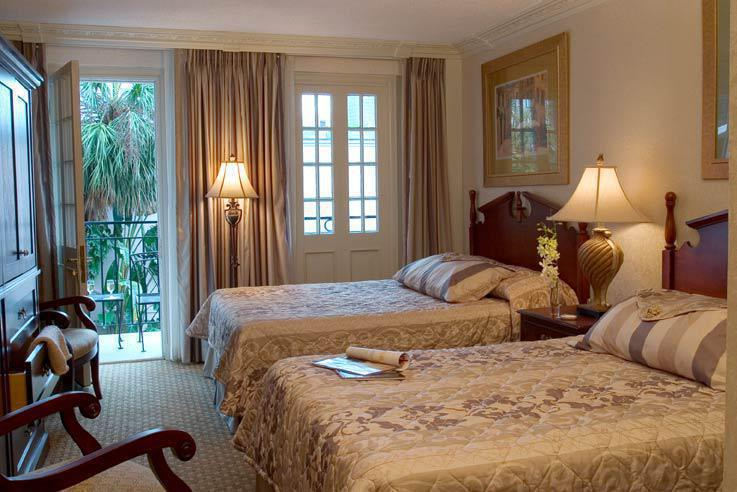Armario: (4, 62, 38, 408)
Cama: (262, 292, 716, 485), (213, 253, 535, 357)
Puerta: (292, 75, 395, 275)
